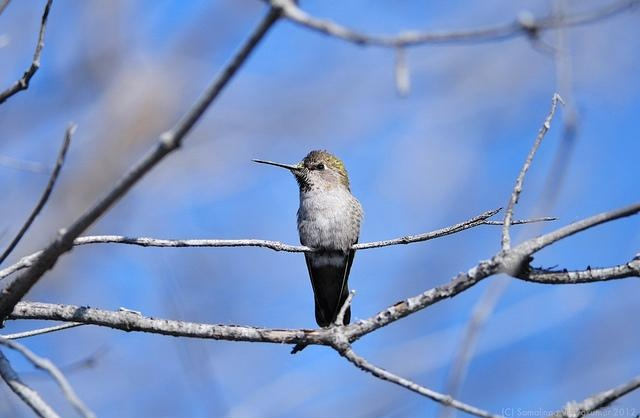bird: (254, 151, 378, 322)
